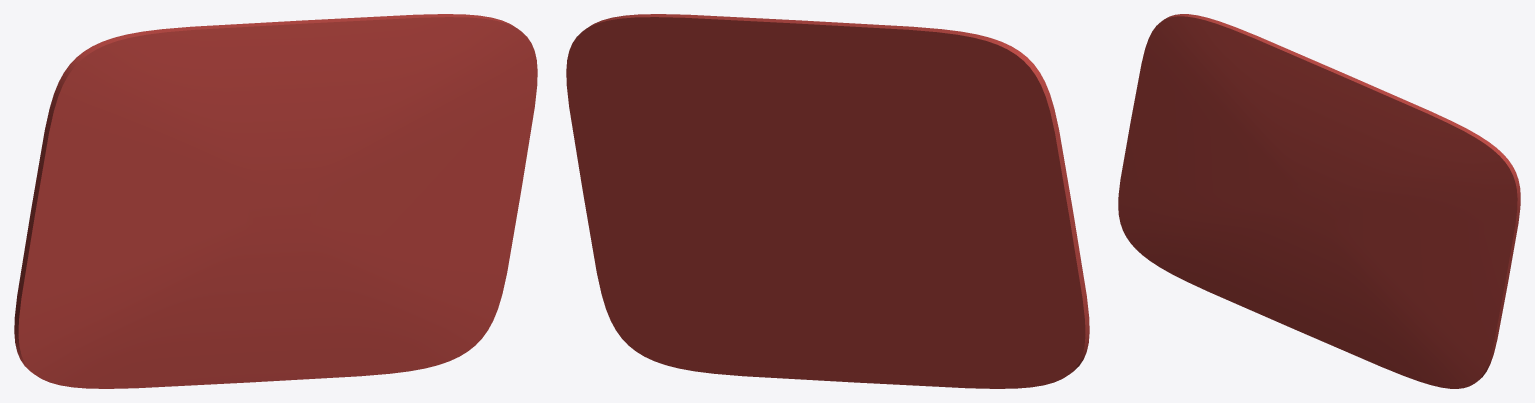
3 views of the same model, side by side, from view 1: azimuth 30°, elevation 25°; view 2: azimuth 150°, elevation 25°; view 3: azimuth 330°, elevation 25° (orthographic). The views are drawn at different scales.
Visible parts, largest first — view 1: mx; view 2: mx; view 3: mx.
Boxes of the visible parts, x1,y1,x2,y2 form: mx: (14, 14, 537, 388); mx: (566, 14, 1089, 388); mx: (1118, 14, 1520, 388).
Bounding box in the file's own units: 0.3569 × 0.2646 × 0.0109.
